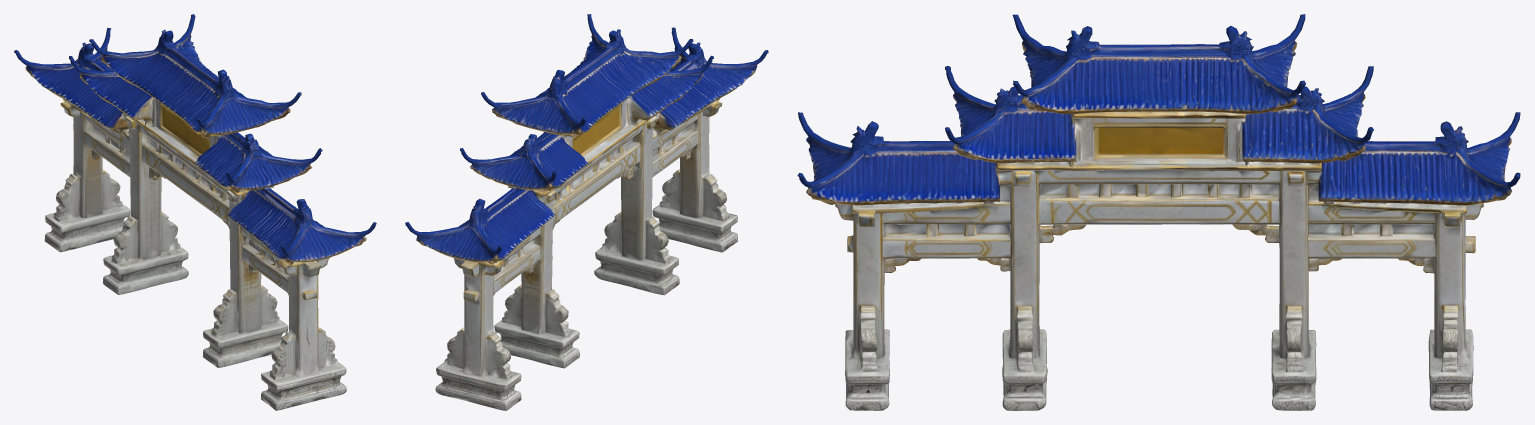
Rendered from pailou.glb.
3 renders of one model, left to right at view 1: azimuth 30°, elevation 25°; view 2: azimuth 150°, elevation 25°; view 3: azimuth 270°, elevation 25°, orthographic. The views are drawn at different scales.
Visible parts, largest first — view 1: tripo_node_44e4f279-6d27-45df-995b-9bbc46ef08e6; view 2: tripo_node_44e4f279-6d27-45df-995b-9bbc46ef08e6; view 3: tripo_node_44e4f279-6d27-45df-995b-9bbc46ef08e6.
Part boxes in pixels (box(x1,y1,x2,y2)): tripo_node_44e4f279-6d27-45df-995b-9bbc46ef08e6: box(14, 14, 376, 410); tripo_node_44e4f279-6d27-45df-995b-9bbc46ef08e6: box(405, 14, 768, 410); tripo_node_44e4f279-6d27-45df-995b-9bbc46ef08e6: box(797, 14, 1520, 410).
Bounding box in the file's own units: 0.2271 × 0.5499 × 1.
1 material, 1 textured.
